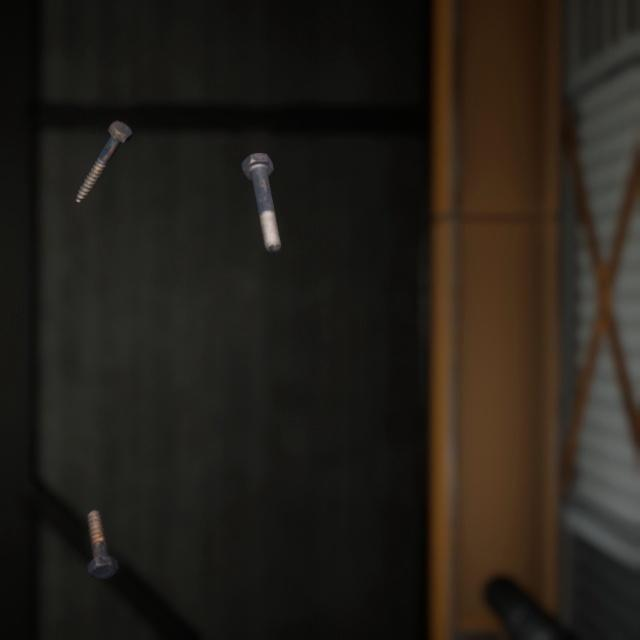bolt: (70, 102, 136, 193), (237, 133, 285, 241), (82, 483, 122, 561)
